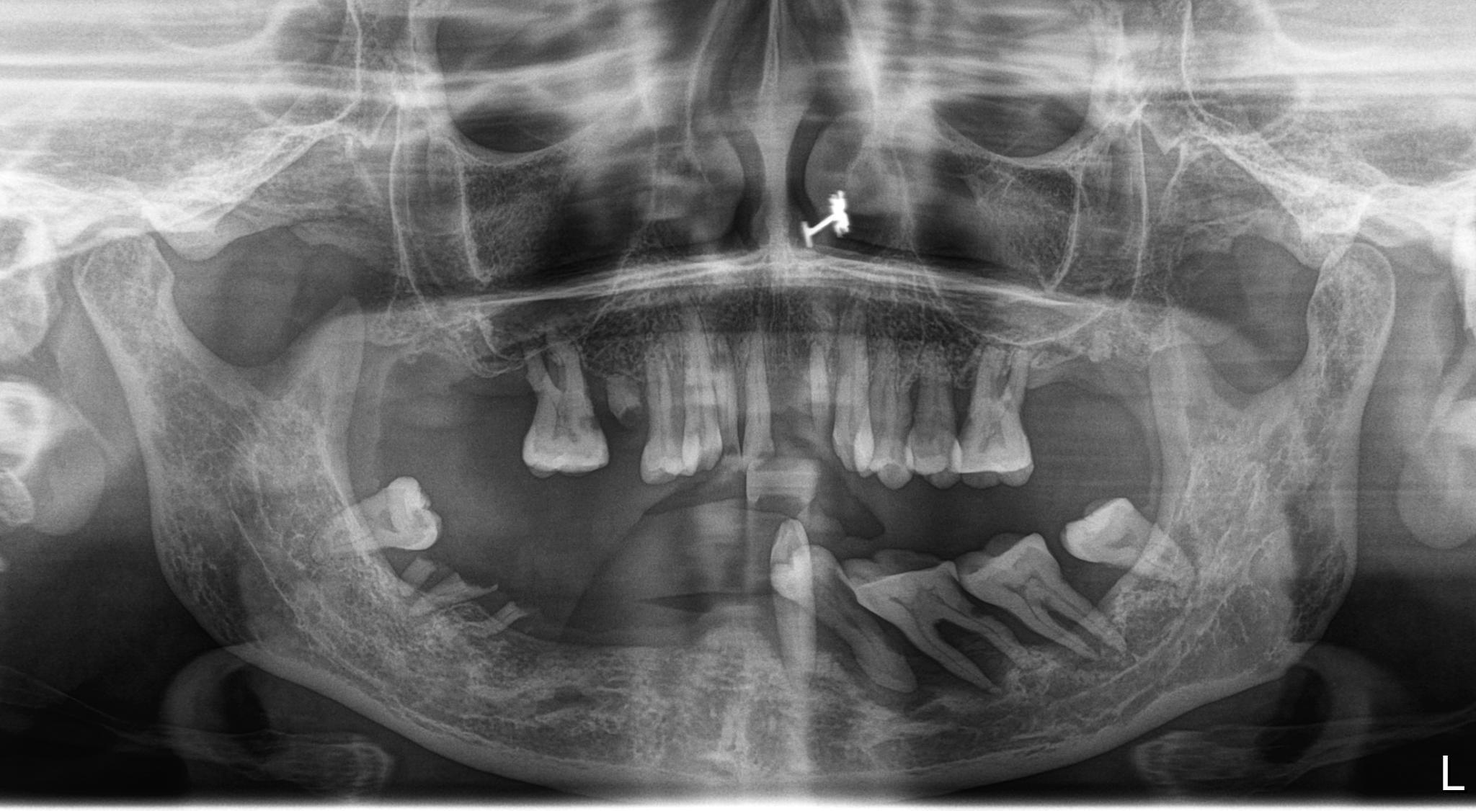Impacted Third Molar: (1077, 502, 1207, 581), (314, 492, 440, 559)
Missing Tooth: (607, 528, 661, 705), (717, 522, 770, 664), (400, 326, 452, 454), (663, 526, 708, 667), (1029, 340, 1069, 458), (1072, 331, 1109, 458), (467, 333, 502, 458), (1121, 321, 1154, 451), (350, 348, 387, 454), (780, 342, 815, 445), (571, 544, 600, 661)
Retained Root: (591, 351, 655, 465), (479, 580, 520, 658), (425, 562, 471, 628), (396, 560, 432, 622)
